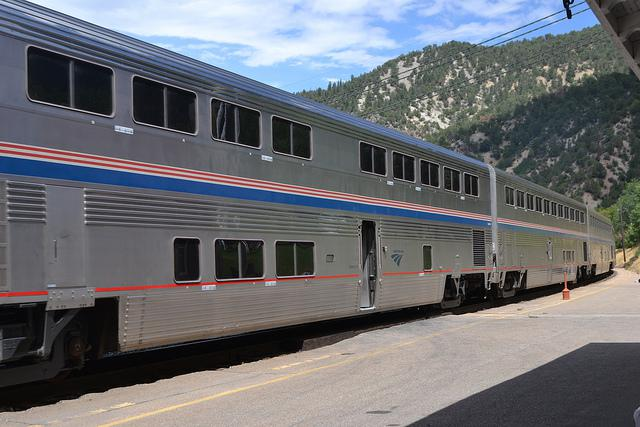Train: (1, 0, 619, 395)
